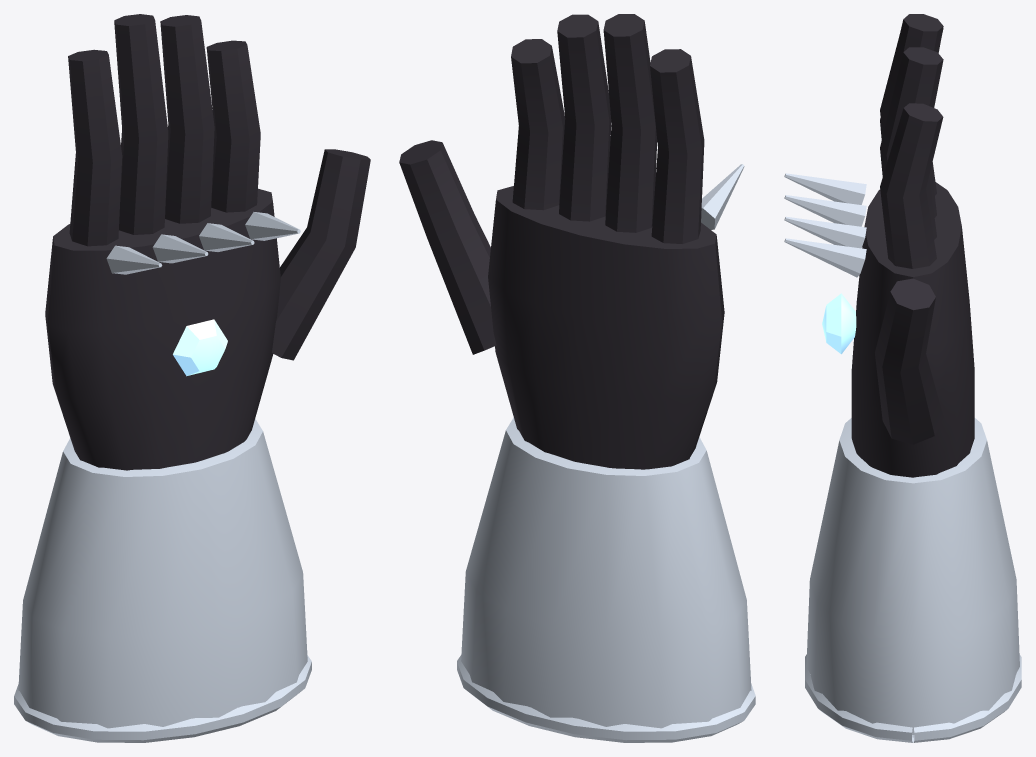
Rendered from depth_gloomthread_grips.glb.
The picture shows the model from 3 angles, left to right: view 1: azimuth 30°, elevation 25°; view 2: azimuth 150°, elevation 25°; view 3: azimuth 270°, elevation 25°; orthographic projection. The views are drawn at different scales.
Parts seen in each view (by area): view 1: depth_gloomthread_grips; view 2: depth_gloomthread_grips; view 3: depth_gloomthread_grips.
Part boxes in pixels (left/top/right/bottom): depth_gloomthread_grips: left=14, top=14, right=370, bottom=742; depth_gloomthread_grips: left=399, top=14, right=755, bottom=742; depth_gloomthread_grips: left=784, top=14, right=1021, bottom=742.
Size of the model in its own units: 0.1481 by 0.2804 by 0.0925.
